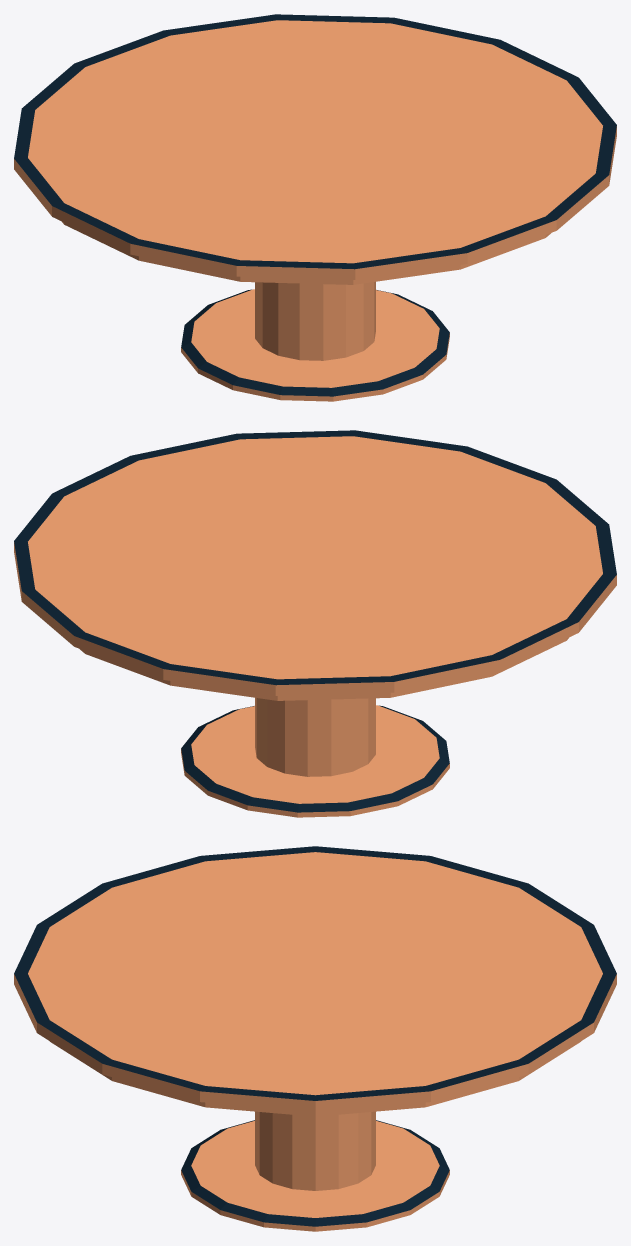
Rendered from Prop_Table_15.fbx.
3 views of the same model, one above another, from view 1: azimuth 30°, elevation 25°; view 2: azimuth 150°, elevation 25°; view 3: azimuth 270°, elevation 25° (orthographic).
Visible parts, largest first — view 1: Prop_Table_15; view 2: Prop_Table_15; view 3: Prop_Table_15.
Part boxes in pixels (x1,y1,x2,y2): Prop_Table_15: (14, 14, 616, 401); Prop_Table_15: (14, 430, 616, 817); Prop_Table_15: (14, 846, 616, 1231).
Size of the model in its own units: 190 by 70 by 190.
